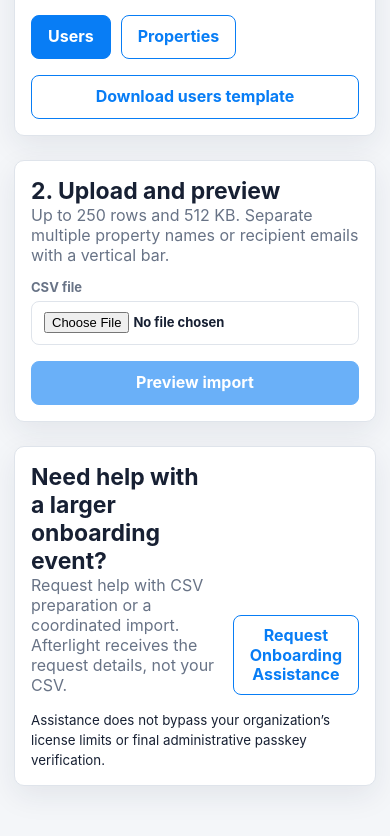
Test: submits an assistance request without attaching CSV data
The width and height of the screenshot is (390, 836).
(page scrolled)
Click the button "Request Onboarding Assistance". click: (296, 655)
box: [233,615,359,695]
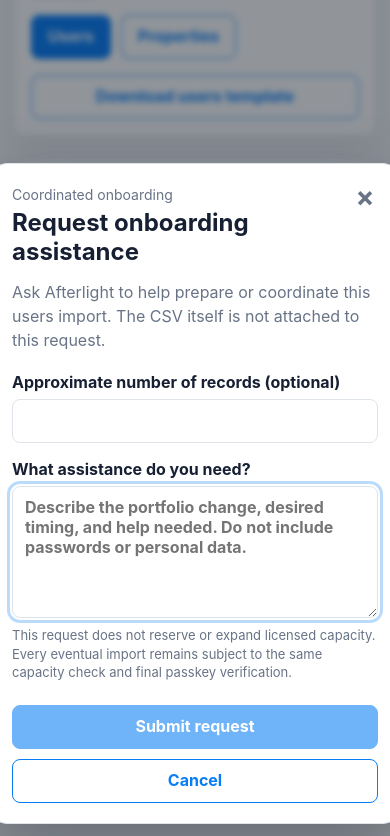
Type "42" into the number field labelled "Approximate number of records (optional)". click: (195, 421)
box: [12,399,378,443]
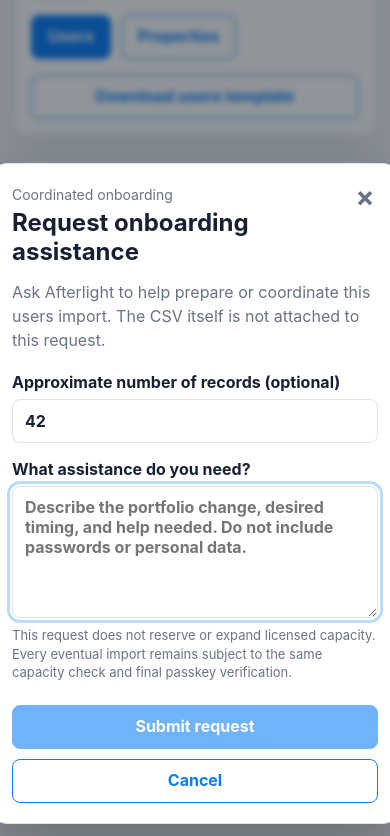
Replace the text in the text box labelled "What assistance do you need?" with "Help us prepare for a newly acquired portfolio.". click: (195, 552)
box: [12,486,378,618]
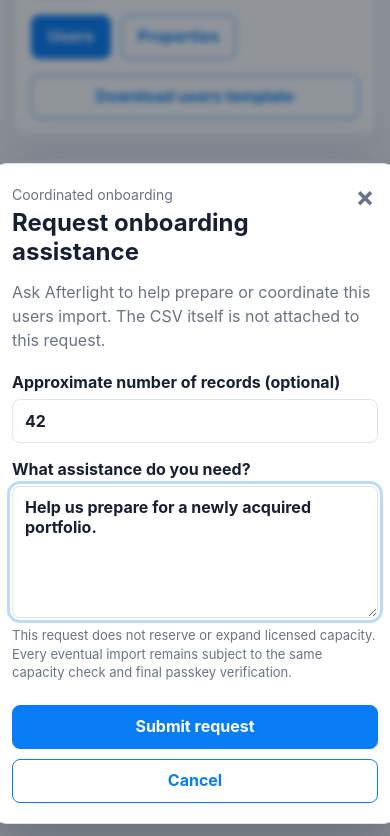
Click the button "Submit request". click: (195, 727)
box: [12,705,378,749]
(page scrolled)
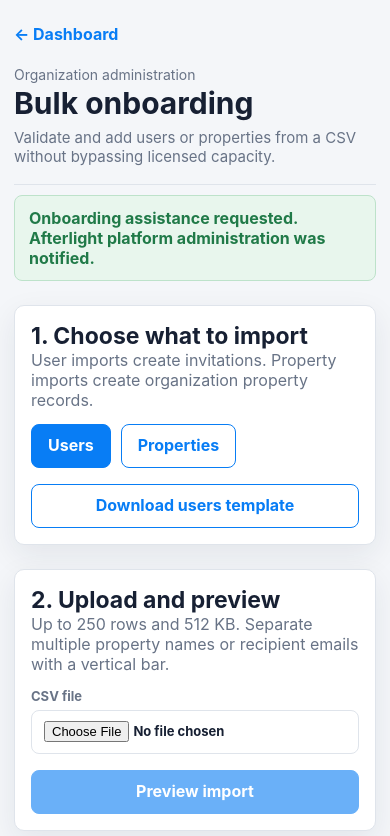
Expected: the text "platform administration was notified" is shown, [29,208,325,268]
